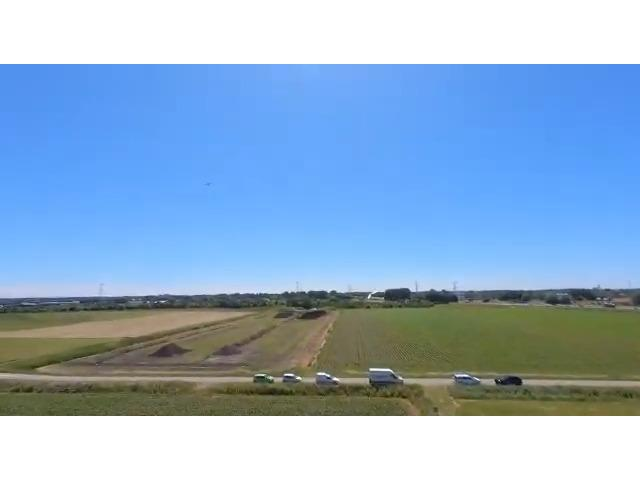Anti-Drone: (193, 178, 223, 191)
